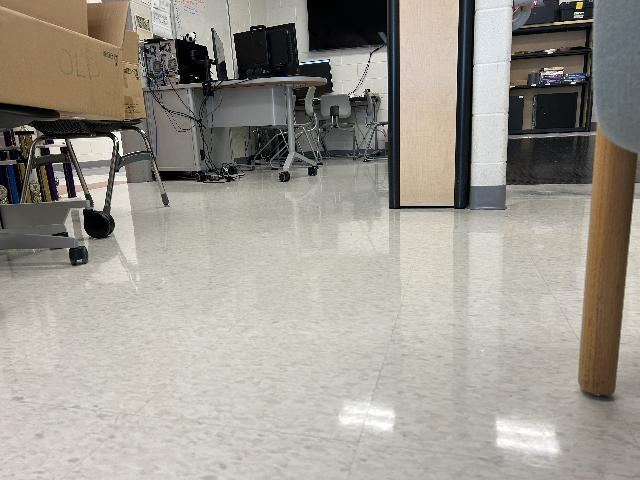panda_plushie: (184, 32, 196, 44)
